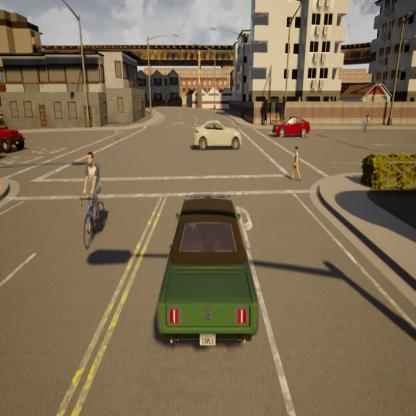Cars: (149, 187, 268, 358), (189, 113, 247, 159), (268, 112, 316, 141), (0, 113, 29, 153)
Pedestrian: (288, 144, 305, 184)
